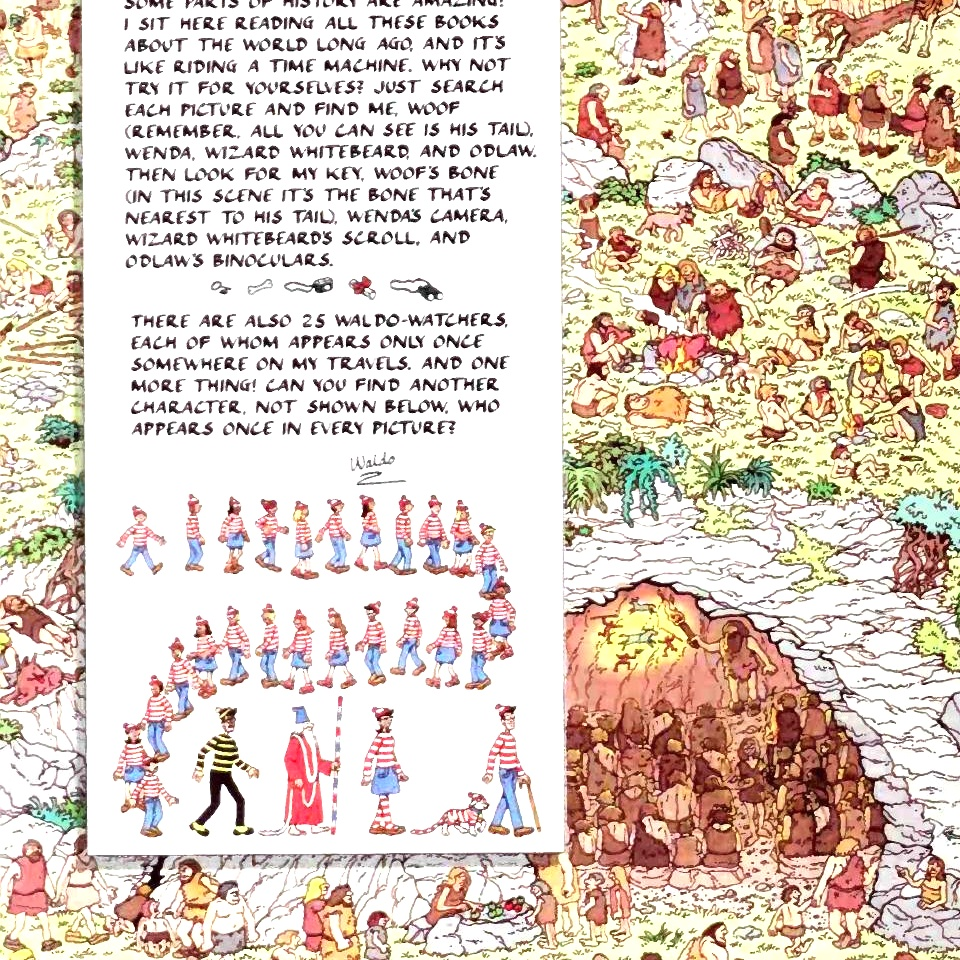waldo: (491, 704, 534, 834)
